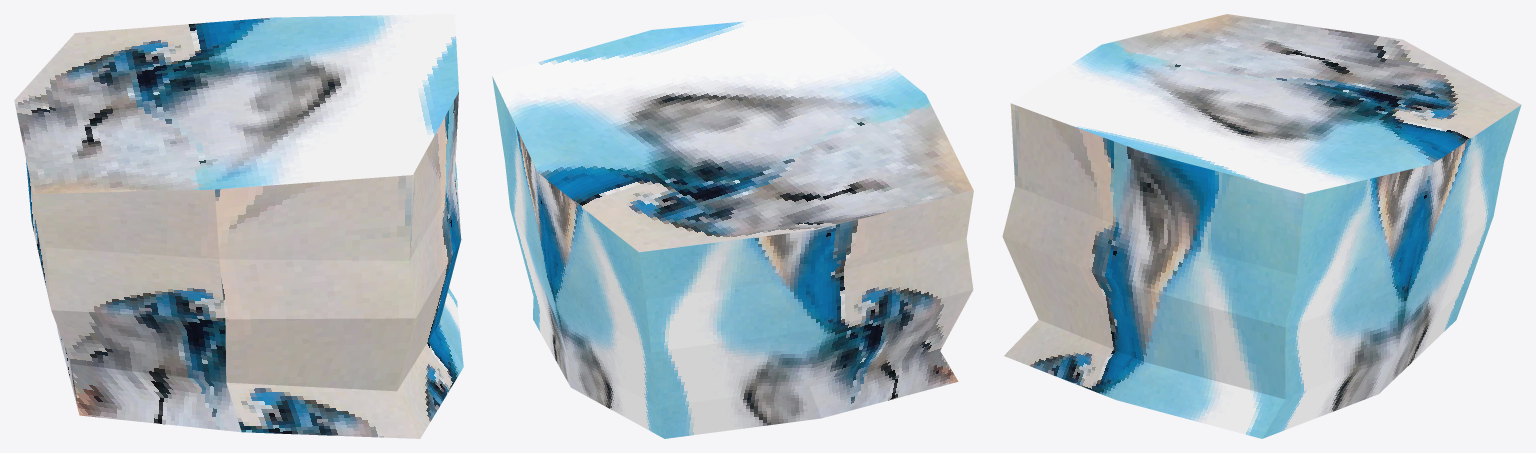
3 renders of one model, left to right at view 1: azimuth 30°, elevation 25°; view 2: azimuth 150°, elevation 25°; view 3: azimuth 270°, elevation 25°, orthographic. The views are drawn at different scales.
Parts seen in each view (by area): view 1: SPLICE_2; view 2: SPLICE_2; view 3: SPLICE_2.
Part boxes in pixels (x1,y1,x2,y2): SPLICE_2: (14,14,463,438); SPLICE_2: (492,14,973,438); SPLICE_2: (1002,14,1521,438).
Size of the model in its own units: 1.83 by 1.03 by 1.86.
Materials: 1 (1 with a texture image).
